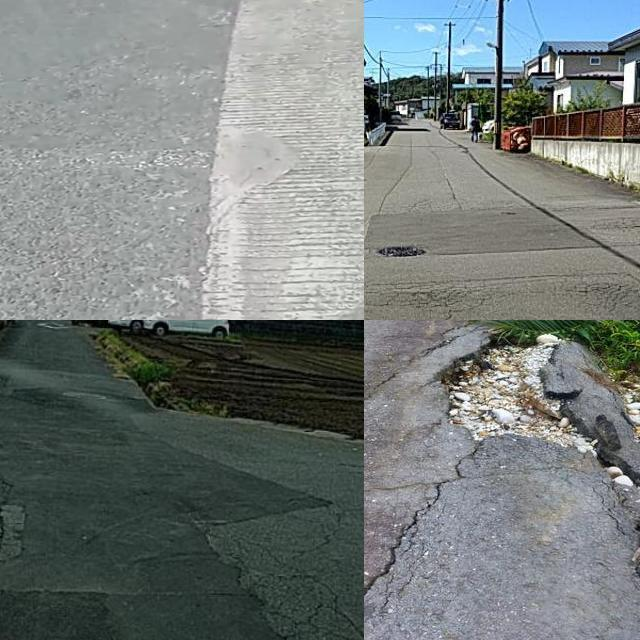Pinggir: (404, 320, 640, 490)
Sambungan: (0, 436, 326, 640), (189, 0, 364, 320), (365, 200, 603, 259)
